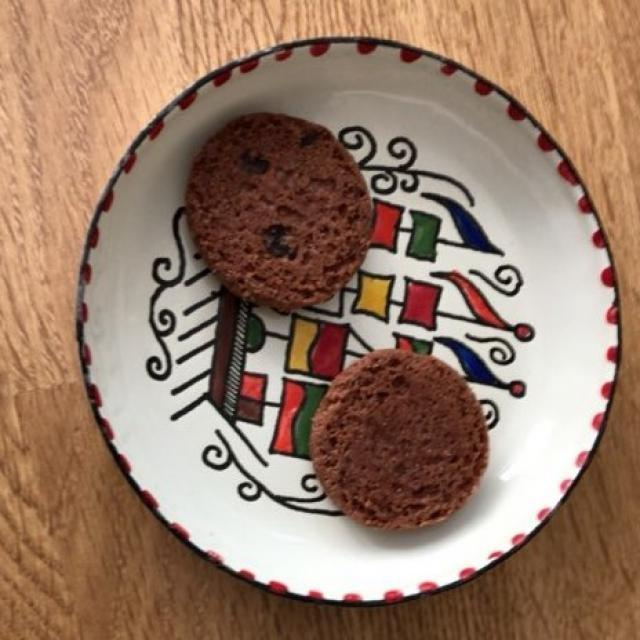cookies: (184, 112, 490, 525)
